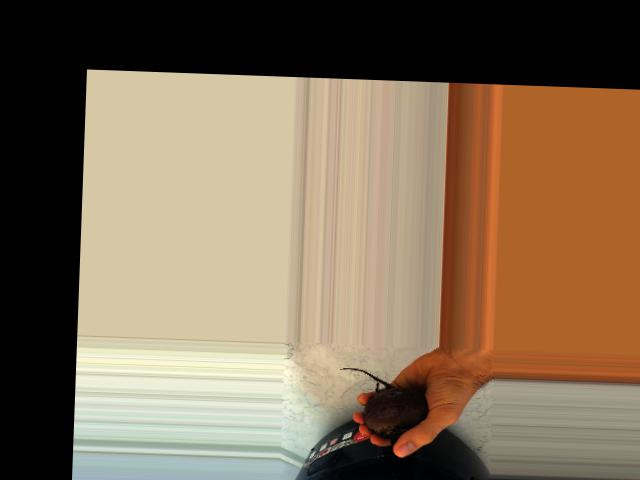beet: (337, 367, 428, 446)
